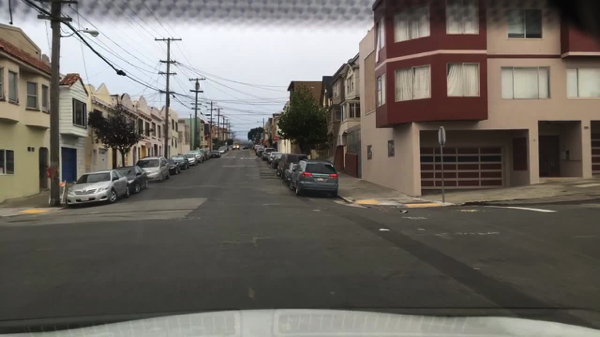car: (66, 169, 128, 208), (287, 161, 341, 198), (114, 166, 149, 193), (137, 156, 170, 183), (278, 154, 306, 176), (169, 155, 190, 169), (285, 163, 298, 183), (164, 161, 180, 174), (271, 154, 283, 169), (185, 154, 197, 166), (191, 150, 204, 161), (262, 147, 273, 159), (267, 151, 279, 162), (201, 147, 210, 159), (210, 150, 220, 158), (256, 147, 264, 157), (231, 143, 239, 150), (254, 144, 260, 153), (219, 147, 225, 153), (242, 146, 250, 150), (222, 145, 228, 150), (251, 145, 257, 149)
traffic sign: (437, 125, 447, 147)
